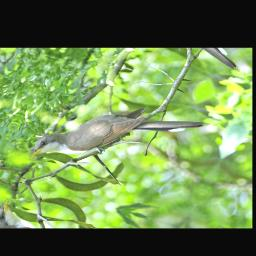Cuckoo: (28, 82, 205, 198)
